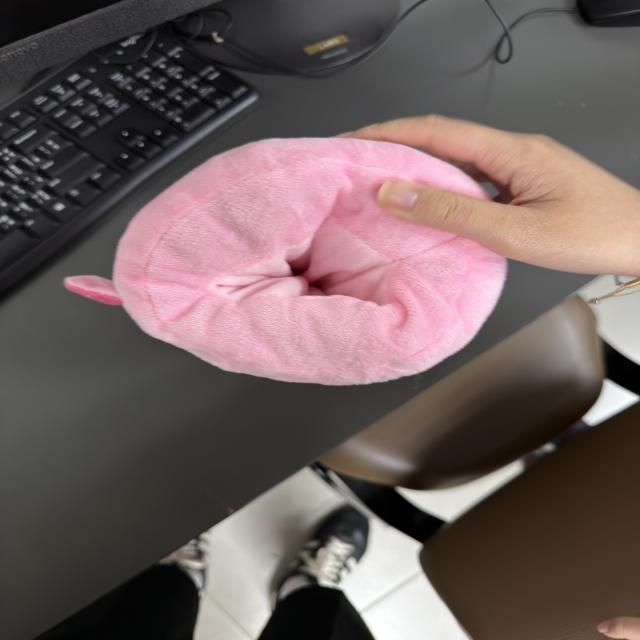pinkpillow: (63, 131, 509, 397)
